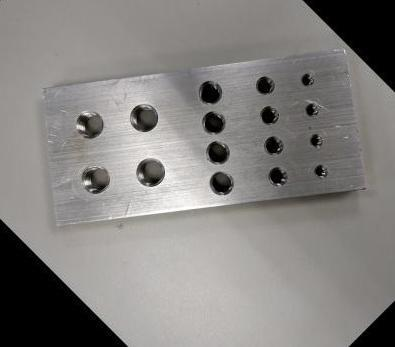hole: (128, 149, 172, 193), (121, 96, 165, 139), (73, 157, 116, 199), (68, 103, 110, 145), (203, 165, 240, 201), (195, 104, 231, 140), (199, 134, 235, 170), (192, 74, 227, 110), (263, 161, 292, 191), (251, 71, 279, 99), (259, 131, 287, 159), (255, 101, 282, 128), (310, 160, 331, 182), (306, 129, 327, 150), (297, 69, 317, 89), (301, 100, 321, 120)
